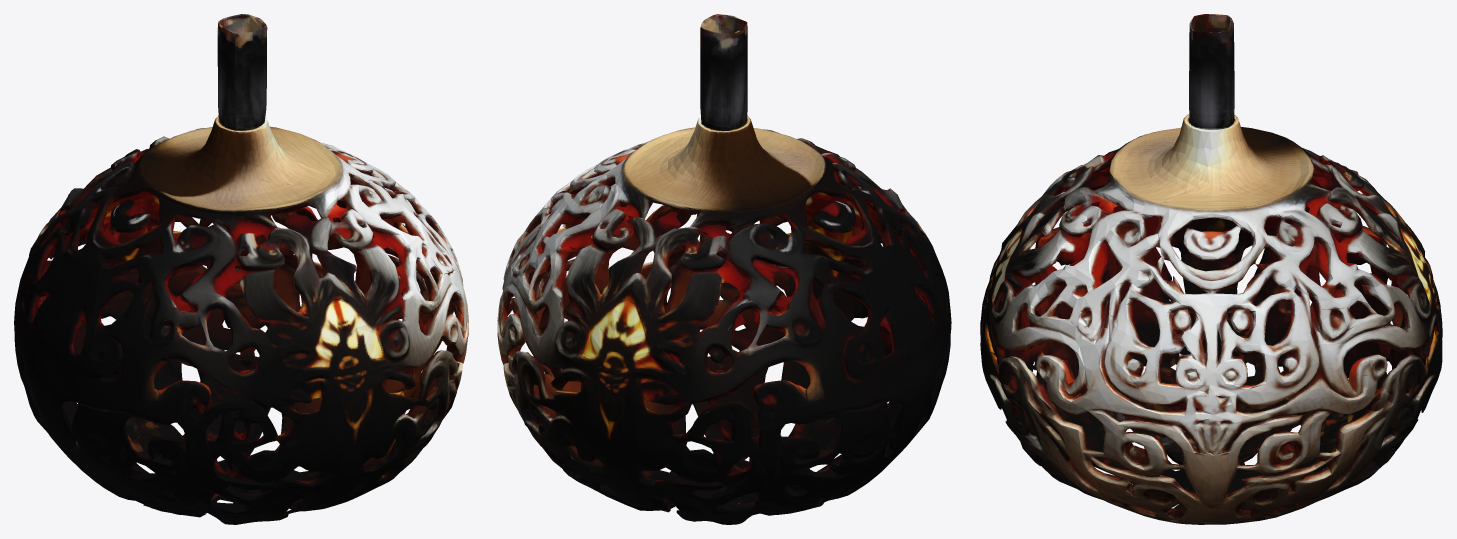
File: wooden-essential-oil-diffuser-horror.jpeg.glb
3 renders of one model, left to right at view 1: azimuth 30°, elevation 25°; view 2: azimuth 150°, elevation 25°; view 3: azimuth 270°, elevation 25°, orthographic.
Visible parts, largest first — view 1: world; view 2: world; view 3: world.
Boxes of the visible parts, x1,y1,x2,y2 form: world: [14, 14, 468, 524]; world: [497, 14, 951, 524]; world: [980, 14, 1442, 524].
Bounding box in the file's own units: 0.9014 × 0.9998 × 0.8985.
Materials: 1 (1 with a texture image).
